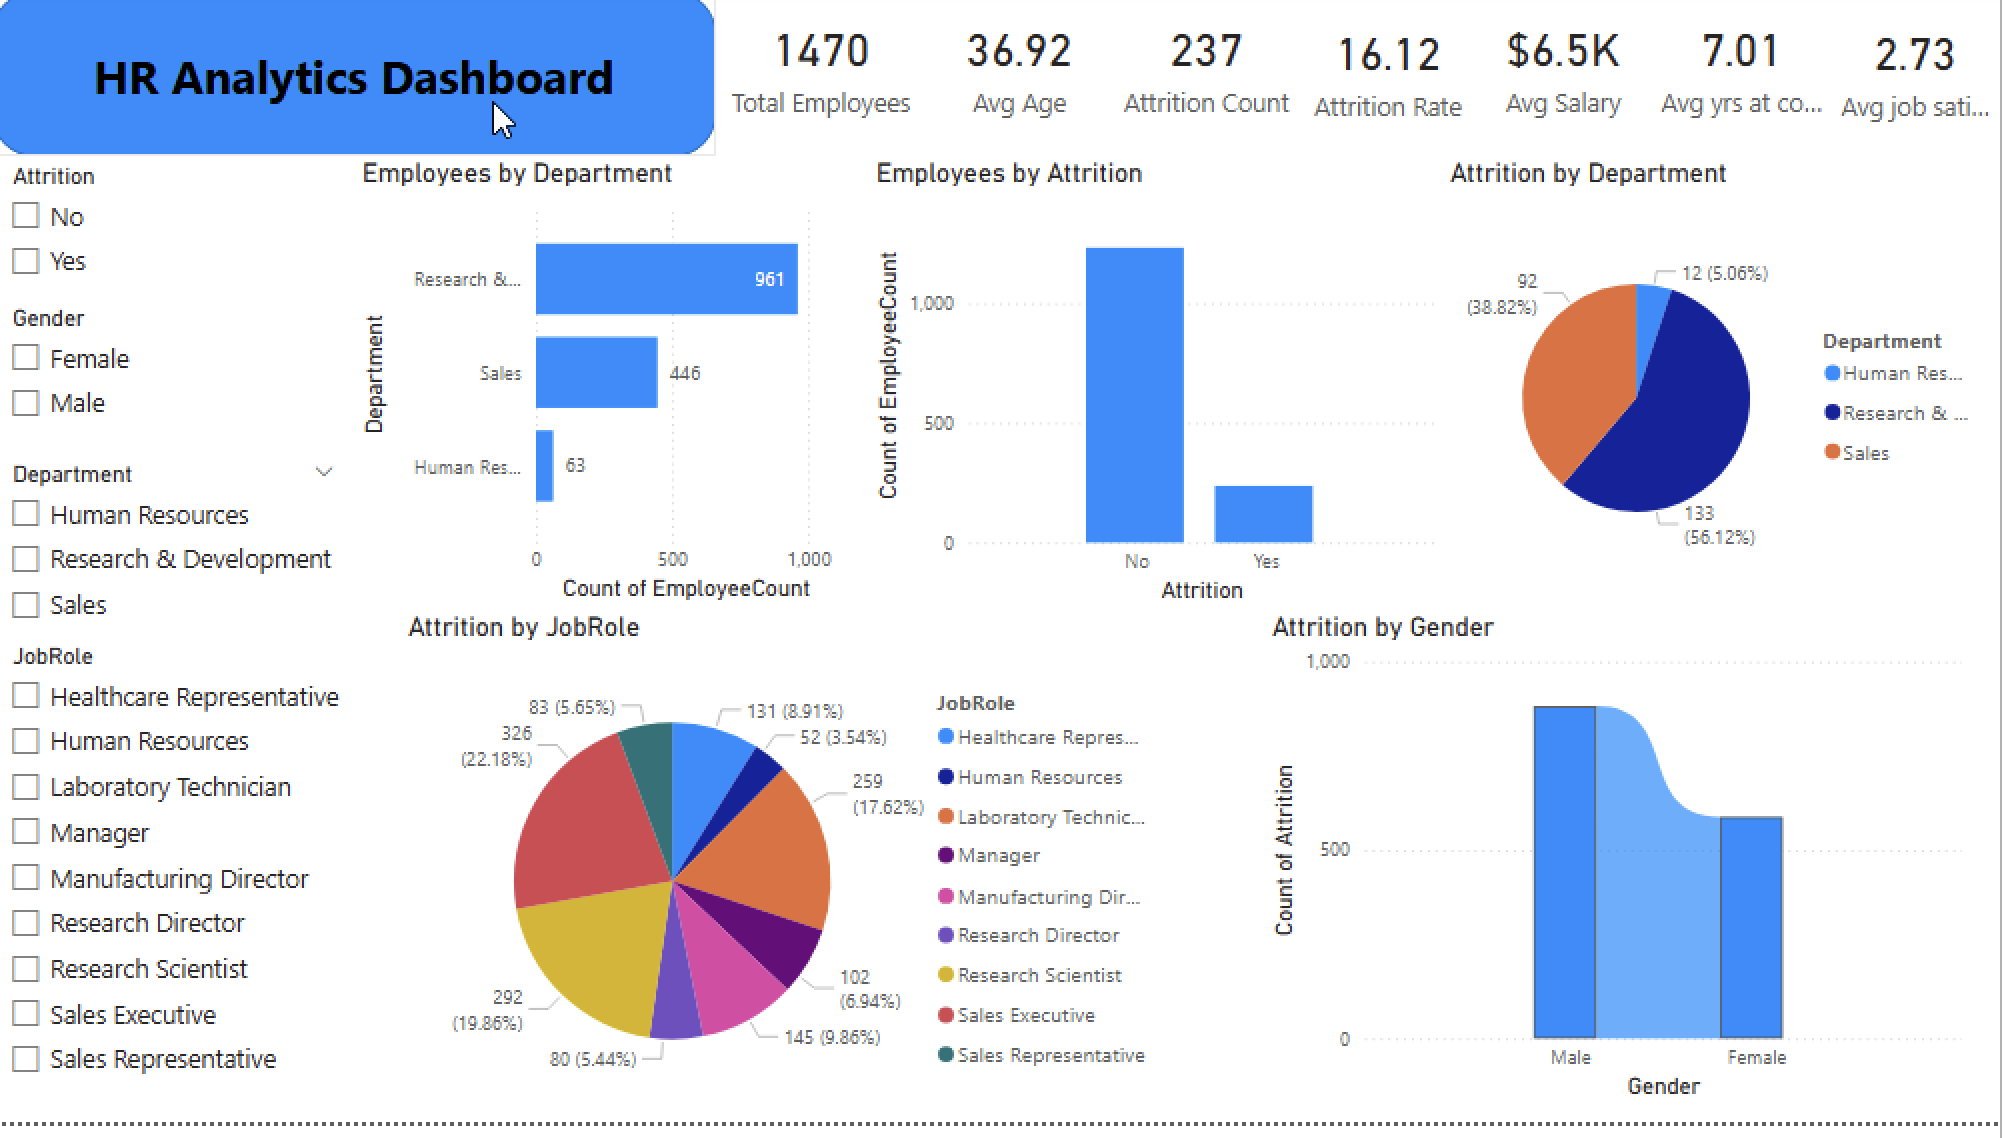

This screenshot's page, from the dashboard's own definition file:
{"tool":"powerbi","page":{"name":"Employess Data","canvas":[1280,720],"ordinal":0},"visuals":[{"type":"shape","box":[0,0,461.5,104.5],"z":0},{"type":"card","fields":{"Values":["HR-Employees.Avg Salary"]},"box":[946.2,0,110.8,91.2],"z":1000},{"type":"card","fields":{"Values":["HR-Employees.Avg Age"]},"box":[595.4,0,118.8,91.2],"z":2000},{"type":"card","fields":{"Values":["HR-Employees.Total Employees"]},"box":[461.5,0,133.8,91.2],"z":3000},{"type":"card","fields":{"Values":["HR-Employees.Attrition Rate"]},"box":[834.2,4.6,111.9,86.5],"z":4000},{"type":"card","fields":{"Values":["HR-Employees.Attrition Count"]},"box":[714.2,0,120,91.2],"z":5000},{"type":"slicer","fields":{"Values":["HR-Employees.Attrition"]},"box":[0,104.5,131.3,119.8],"z":6000},{"type":"slicer","fields":{"Values":["HR-Employees.Gender"]},"box":[0,195.1,131.3,108.4],"z":7000},{"type":"barChart","title":"Employees by Department","fields":{"Y":["CountNonNull(HR-Employees.EmployeeCount)"],"Category":["HR-Employees.Department"]},"box":[230.8,105,327.7,288.5],"z":8000},{"type":"columnChart","title":"Employees by Attrition","fields":{"Category":["HR-Employees.Attrition"],"Y":["CountNonNull(HR-Employees.EmployeeCount)"]},"box":[558.4,104.5,365.9,289.4],"z":9000},{"type":"pieChart","title":"Attrition by Department","fields":{"Series":["HR-Employees.Department"],"Y":["HR-Employees.Attrition Count"]},"box":[924.3,104.5,350.6,289.4],"z":10000},{"type":"pieChart","title":"Attrition by JobRole","fields":{"Series":["HR-Employees.JobRole"],"Y":["CountNonNull(HR-Employees.Attrition)"]},"box":[260.1,393.9,492.1,326.4],"z":11000},{"type":"ribbonChart","title":" Attrition by Gender","fields":{"Category":["HR-Employees.Gender"],"Y":["CountNonNull(HR-Employees.Attrition)"]},"box":[810.8,393.9,450,316.2],"z":12000},{"type":"slicer","fields":{"Values":["HR-Employees.Department"]},"box":[0,294.5,230.8,130],"z":13000},{"type":"slicer","fields":{"Values":["HR-Employees.JobRole"]},"box":[0,410.5,244.8,289.4],"z":14000},{"type":"card","fields":{"Values":["HR-Employees.Avg yrs at company"]},"box":[1056.9,0,116.5,91.2],"z":15000},{"type":"card","fields":{"Values":["HR-Employees.Avg job satisfaction"]},"box":[1173.5,4.6,106.2,86.5],"z":16000}]}

Visuals, with their boxes in screenshot pixels (x1, y1, x2, y2), scaled from the page's 1280x720 canvas onto the 2006x1138 screenshot:
shape: box=[0, 0, 723, 165]
card - HR-Employees.Avg Salary: box=[1483, 0, 1657, 144]
card - HR-Employees.Avg Age: box=[933, 0, 1119, 144]
card - HR-Employees.Total Employees: box=[723, 0, 933, 144]
card - HR-Employees.Attrition Rate: box=[1307, 7, 1483, 144]
card - HR-Employees.Attrition Count: box=[1119, 0, 1307, 144]
slicer - HR-Employees.Attrition: box=[0, 165, 206, 355]
slicer - HR-Employees.Gender: box=[0, 308, 206, 480]
"Employees by Department" barChart: box=[362, 166, 875, 622]
"Employees by Attrition" columnChart: box=[875, 165, 1449, 623]
"Attrition by Department" pieChart: box=[1449, 165, 1998, 623]
"Attrition by JobRole" pieChart: box=[408, 623, 1179, 1137]
" Attrition by Gender" ribbonChart: box=[1271, 623, 1976, 1122]
slicer - HR-Employees.Department: box=[0, 465, 362, 671]
slicer - HR-Employees.JobRole: box=[0, 649, 384, 1106]
card - HR-Employees.Avg yrs at company: box=[1656, 0, 1839, 144]
card - HR-Employees.Avg job satisfaction: box=[1839, 7, 2005, 144]
